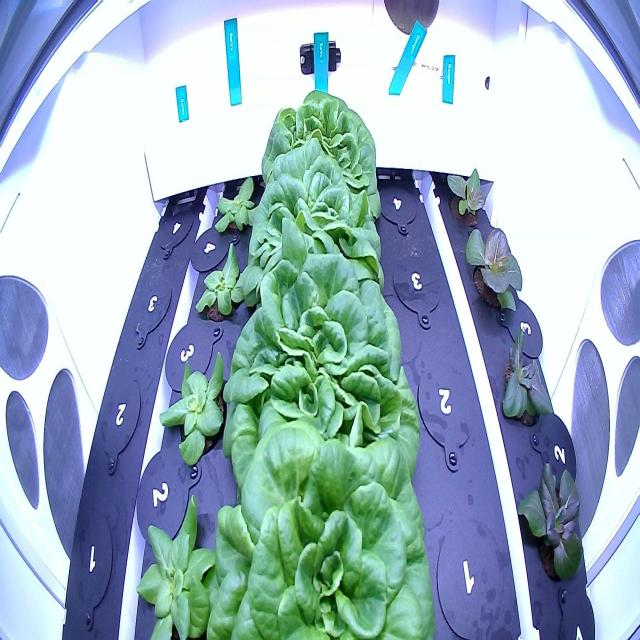Ready: (214, 211, 422, 499), (205, 407, 435, 640), (238, 128, 392, 312), (255, 80, 383, 217)
empty_pod: (432, 509, 515, 639), (415, 342, 480, 474), (67, 502, 121, 621), (391, 237, 447, 336), (95, 368, 145, 466), (126, 270, 174, 349), (156, 196, 195, 264), (378, 171, 420, 234)
young: (132, 486, 222, 640), (512, 452, 591, 600), (154, 337, 240, 472), (460, 213, 532, 333), (495, 322, 565, 438), (192, 233, 250, 340), (440, 156, 495, 236), (212, 168, 264, 248)
